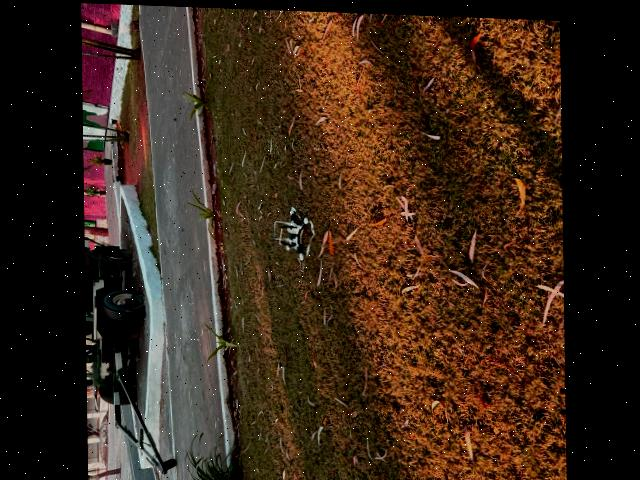drone: (267, 197, 312, 277)
